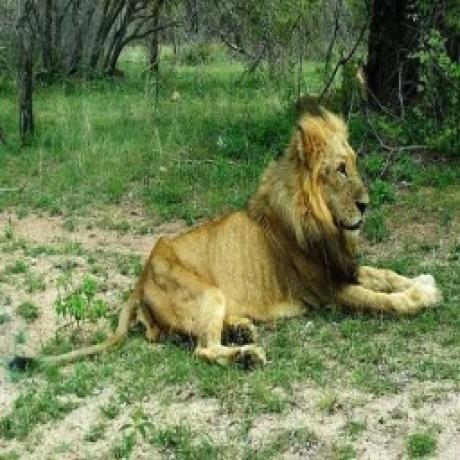Lion: (11, 99, 450, 378)
